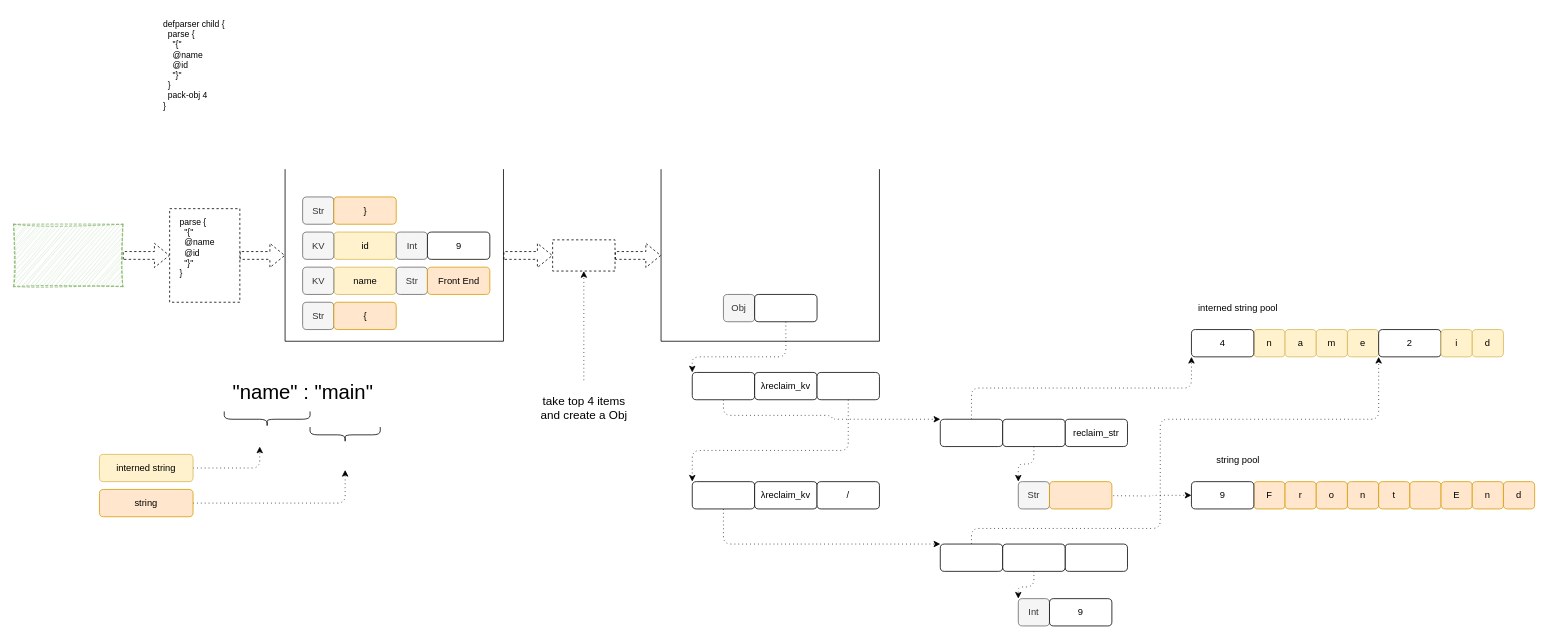
This 1548x640 diagram has some shape labels left out. The centre of each missing label's shape, as x and y in pixels:
key "name": pixel 266 419
pack-obj 4: pixel 583 255
string _: pixel 344 434
{ "name": "Front End", "id": 9 }: pixel 68 255
